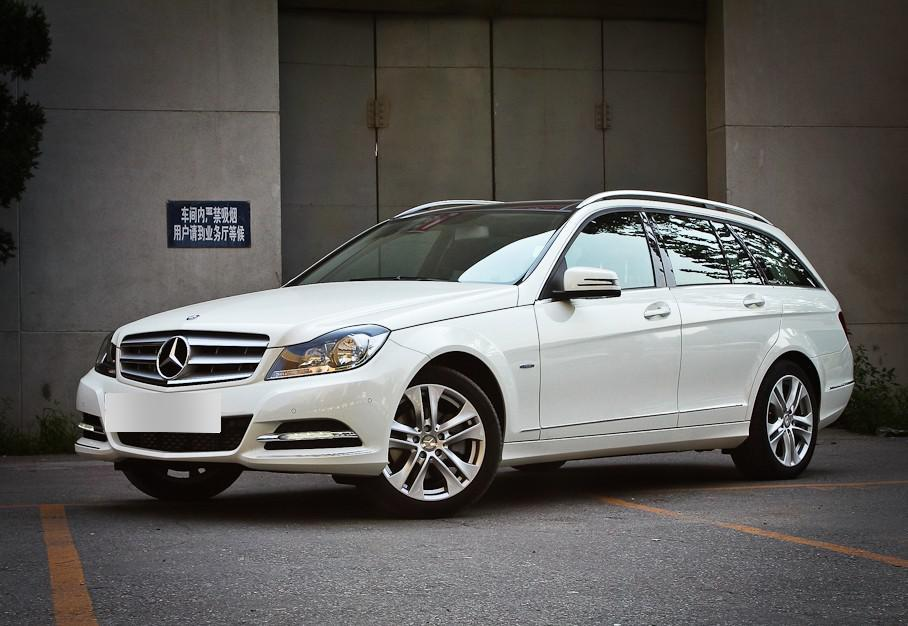Wagon: (72, 189, 857, 520)
